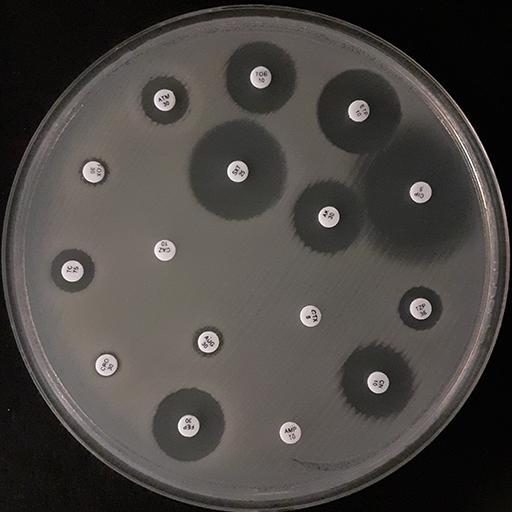disc: (250, 66, 272, 89), (318, 205, 340, 228), (279, 421, 301, 444), (154, 89, 176, 111), (348, 100, 370, 122), (410, 181, 432, 203), (410, 297, 432, 319), (367, 371, 389, 393), (299, 305, 321, 327), (198, 331, 220, 353), (178, 415, 200, 437), (96, 354, 118, 376), (61, 260, 83, 282), (154, 239, 176, 261), (83, 161, 105, 183), (227, 160, 249, 182)
